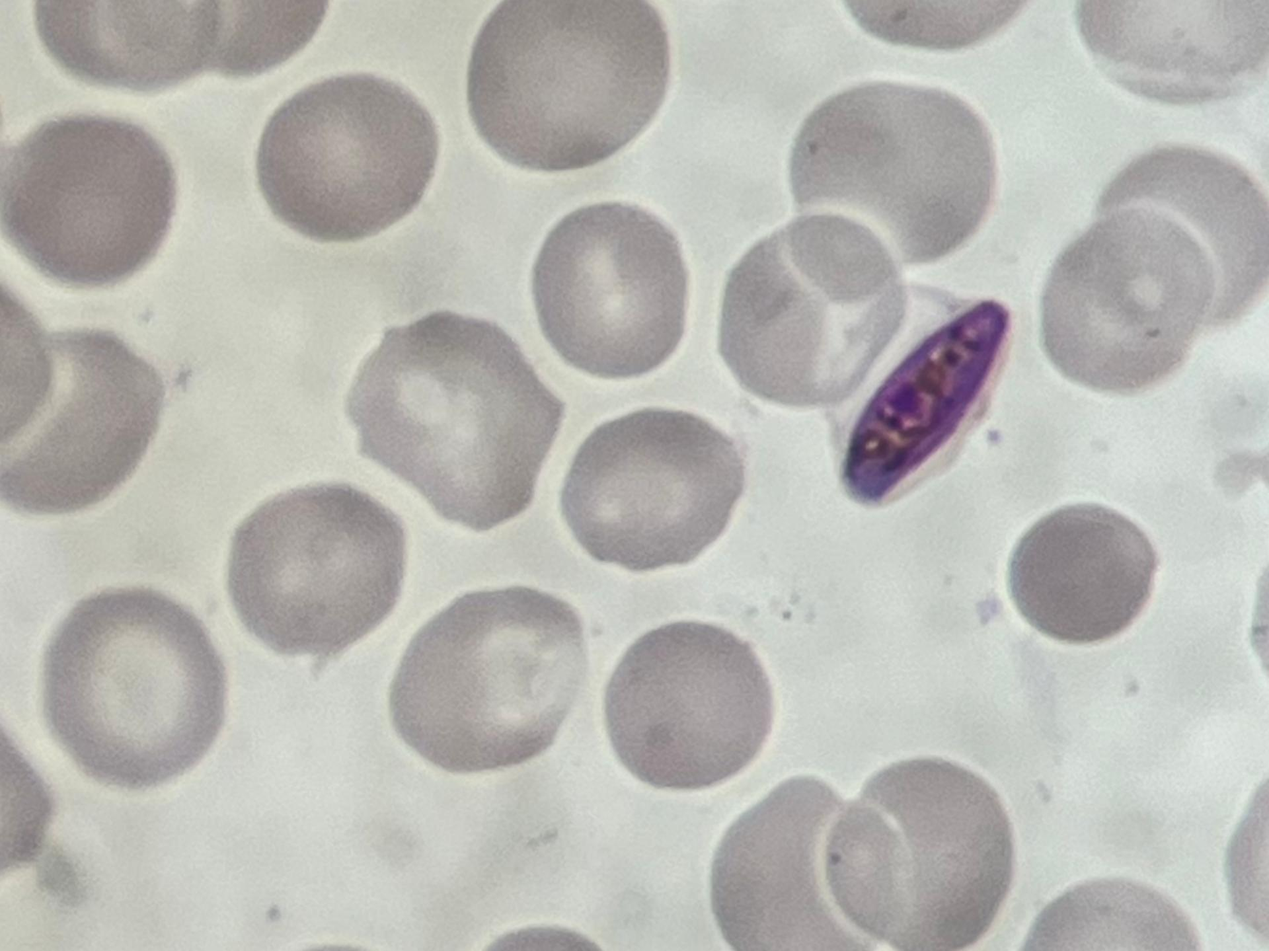Infected: (828, 285, 1014, 508)
Uninfected: (344, 314, 562, 530), (791, 80, 994, 295), (387, 582, 590, 772), (38, 590, 227, 794), (823, 757, 1014, 951), (707, 777, 915, 951), (715, 213, 902, 405), (468, 0, 670, 176), (1036, 204, 1215, 397), (228, 478, 404, 657), (1097, 142, 1268, 323), (256, 73, 439, 241), (0, 118, 178, 288), (563, 410, 746, 575), (0, 331, 164, 514), (601, 623, 771, 784), (534, 202, 683, 380), (1005, 503, 1155, 646)
